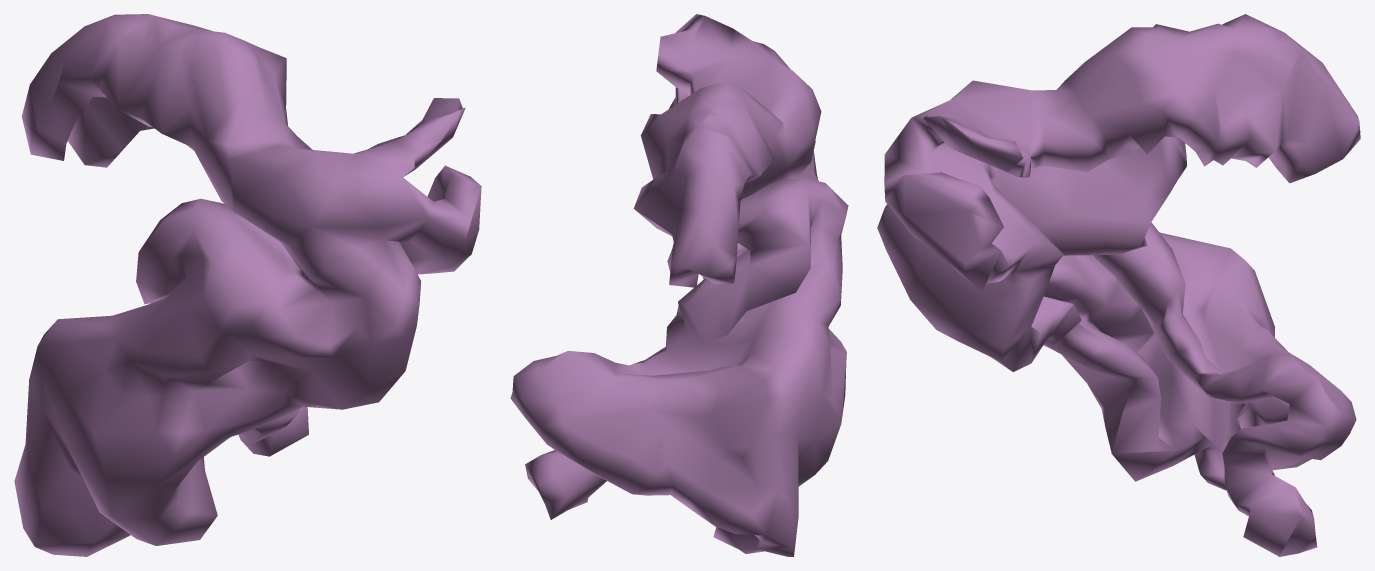
The picture shows the model from 3 angles, left to right: view 1: azimuth 30°, elevation 25°; view 2: azimuth 150°, elevation 25°; view 3: azimuth 270°, elevation 25°; orthographic projection. The views are drawn at different scales.
Parts seen in each view (by area): view 1: 右侧缘上回; view 2: 右侧缘上回; view 3: 右侧缘上回.
Part boxes in pixels (x1,y1,x2,y2): 右侧缘上回: [14, 14, 481, 556]; 右侧缘上回: [510, 14, 848, 556]; 右侧缘上回: [877, 14, 1360, 556].
Bounding box in the file's own units: 0.0445 × 0.0722 × 0.0648.
